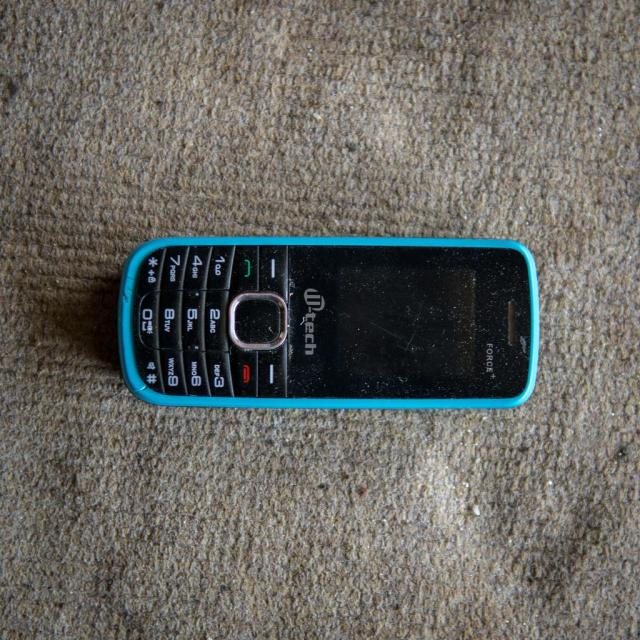Phone: (99, 223, 541, 418)
